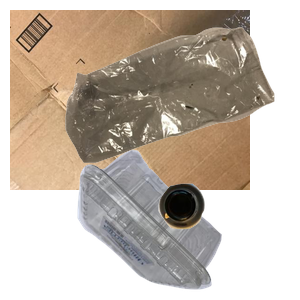cardboard: (10, 10, 250, 190)
glass: (156, 181, 300, 300)
plastic: (75, 147, 289, 300)
trash: (63, 24, 300, 179)
